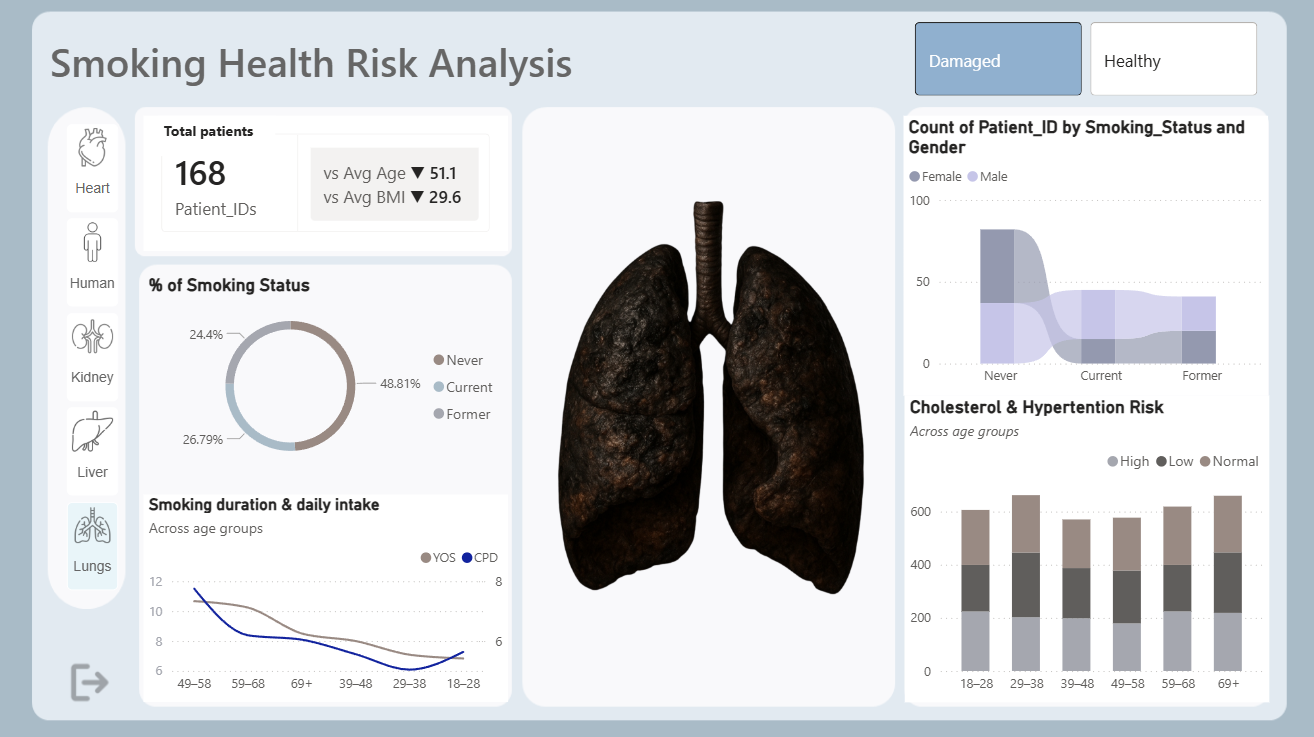

Layout of this report page (visuals, bound fields, positions):
{"tool":"powerbi","page":{"name":"Page 1","canvas":[1280,720],"ordinal":0},"visuals":[{"type":"cardVisual","fields":{"Data":["CountNonNull(health_dataset.Patient_ID)"]},"box":[145.5,118,347.2,129],"z":0},{"type":"advancedSlicerVisual","fields":{"Values":["condition.Organ_Condition"]},"box":[875.5,23.3,336.2,81],"z":1},{"type":"ChicletSlicer1448559807354","fields":{"Category":["Organs.Organ"],"Image":["Organs.Icon_URL"]},"box":[64.5,118,70,465.2],"z":2},{"type":"image","box":[511.8,118,347.2,558.5],"z":3},{"type":"donutChart","title":"% of Smoking Status","fields":{"Category":["health_dataset.Smoking_Status"],"Y":["CountNonNull(health_dataset.Smoking_Status)"]},"box":[145.5,269,347.2,193.5],"z":4},{"type":"lineChart","title":"Smoking duration & daily intake ","fields":{"Category":["health_dataset.Age Group"],"Y":["Avg(health_dataset.Years_of_Smoking)"],"Y2":["Avg(health_dataset.Cigarettes_Per_Day)"]},"box":[145.5,478.9,347.2,197.6],"z":5},{"type":"ribbonChart","fields":{"Category":["health_dataset.Smoking_Status"],"Y":["CountNonNull(health_dataset.Patient_ID)"],"Series":["health_dataset.Gender"]},"box":[868.6,118,347.2,266.2],"z":6},{"type":"columnChart","title":"Cholesterol & Hypertention Risk","fields":{"Category":["health_dataset.Age Group"],"Y":["Avg(health_dataset.Cholesterol_Level)"],"Series":["health_dataset.BP_Risk"]},"box":[870,384.2,347.2,292.3],"z":7},{"type":"textbox","box":[159.2,118,111.1,38.4],"z":8},{"type":"textbox","box":[50.8,35.7,668.3,68.6],"z":9}]}

Visuals, with their boxes in screenshot pixels (x1, y1, x2, y2), scaled from the page's 1280x720 canvas onto the 1314x737 screenshot:
cardVisual - CountNonNull(health_dataset.Patient_ID): box(149, 121, 506, 253)
advancedSlicerVisual - condition.Organ_Condition: box(899, 24, 1244, 107)
ChicletSlicer1448559807354 - Organs.Organ x Organs.Icon_URL: box(66, 121, 138, 597)
image: box(525, 121, 882, 692)
"% of Smoking Status" donutChart: box(149, 275, 506, 473)
"Smoking duration & daily intake " lineChart: box(149, 490, 506, 692)
ribbonChart - health_dataset.Smoking_Status x CountNonNull(health_dataset.Patient_ID): box(892, 121, 1248, 393)
"Cholesterol & Hypertention Risk" columnChart: box(893, 393, 1250, 692)
textbox: box(163, 121, 277, 160)
textbox: box(52, 37, 738, 107)
